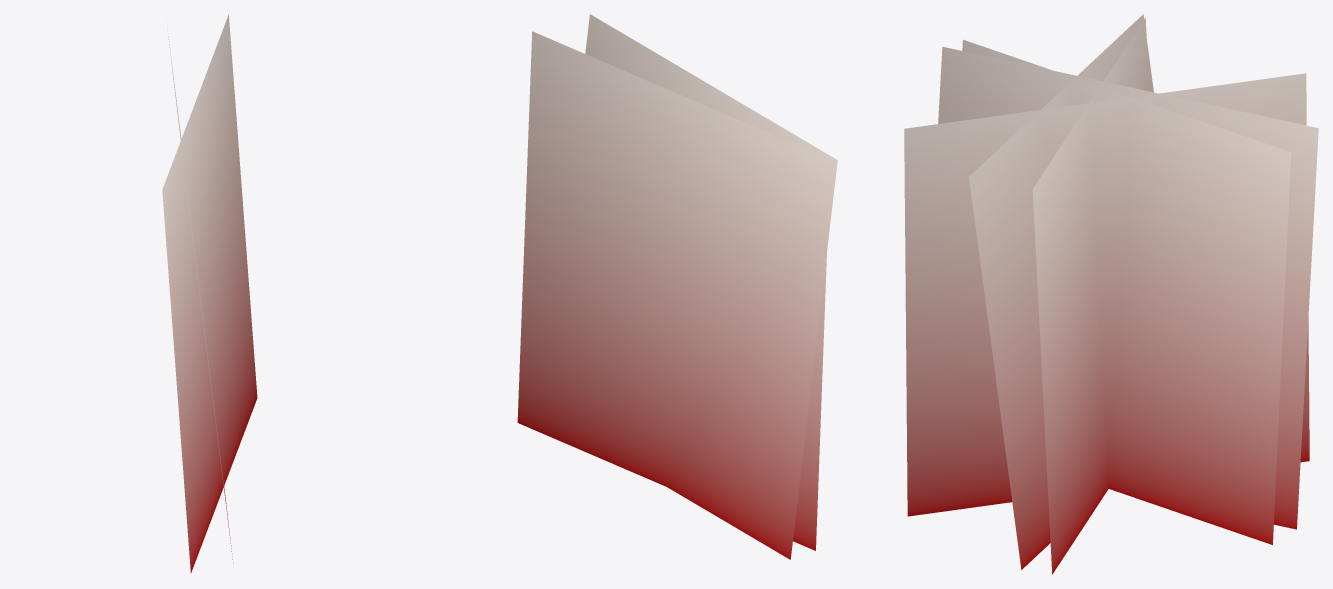
The model's file is under-grass.glb.
3 views of the same model, side by side, from view 1: azimuth 30°, elevation 25°; view 2: azimuth 150°, elevation 25°; view 3: azimuth 270°, elevation 25° (orthographic).
Visible parts, largest first — view 1: under-grass-0_LOD0, under-grass-1_LOD0; view 2: under-grass-1_LOD0, under-grass-0_LOD0; view 3: under-grass-0_LOD0, under-grass-1_LOD0.
Part boxes in pixels (x1,y1,x2,y2): under-grass-0_LOD0: (162, 14, 257, 572); under-grass-1_LOD0: (167, 25, 233, 562); under-grass-1_LOD0: (517, 31, 830, 550); under-grass-0_LOD0: (585, 14, 837, 559); under-grass-0_LOD0: (904, 14, 1309, 569); under-grass-1_LOD0: (938, 17, 1318, 574).
Size of the model in its own units: 0.9935 by 1 by 0.98.
